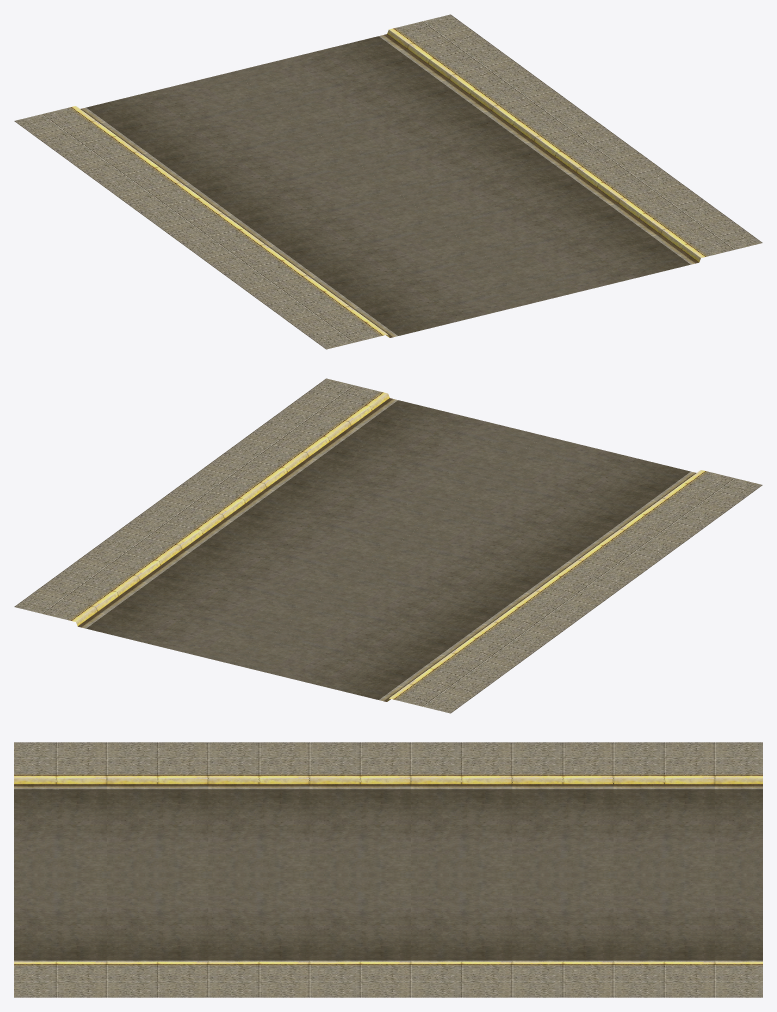
Rendered from Road3_Straight_E.fbx.
3 views of the same model, one above another, from view 1: azimuth 30°, elevation 25°; view 2: azimuth 150°, elevation 25°; view 3: azimuth 270°, elevation 25° (orthographic). The views are drawn at different scales.
Visible parts, largest first — view 1: Road_Straight_E; view 2: Road_Straight_E; view 3: Road_Straight_E.
Boxes of the visible parts, x1,y1,x2,y2 form: Road_Straight_E: [14, 14, 762, 349]; Road_Straight_E: [14, 378, 762, 713]; Road_Straight_E: [14, 742, 762, 997].
Size of the model in its own units: 2255 by 20.38 by 2793.
